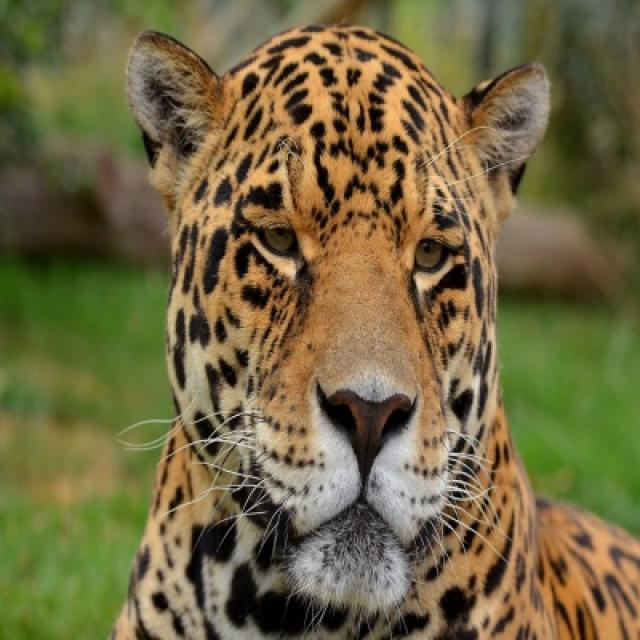Jaguar: (109, 24, 638, 638)
